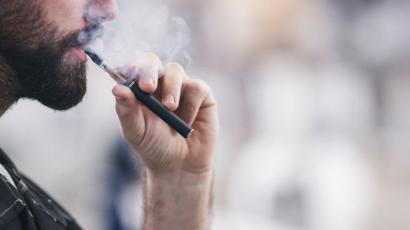Smoke: (91, 3, 178, 68)
Vape: (85, 49, 193, 139)
